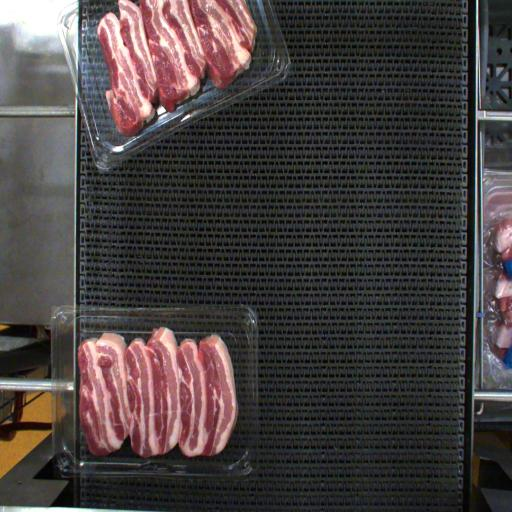wrinkle: (137, 407, 194, 421)
